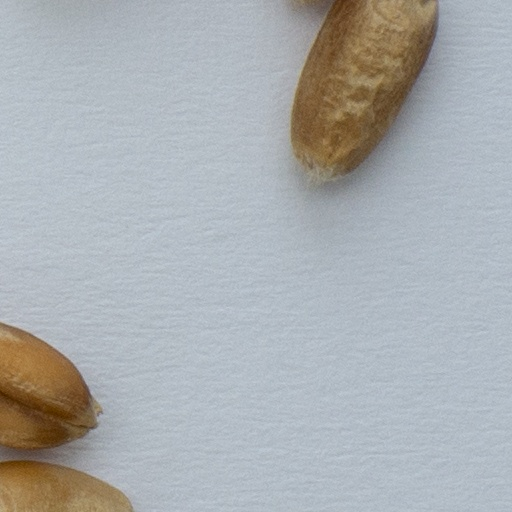Wheat-grain: (288, 0, 442, 188), (0, 320, 103, 456), (0, 460, 135, 511), (293, 0, 333, 16)
